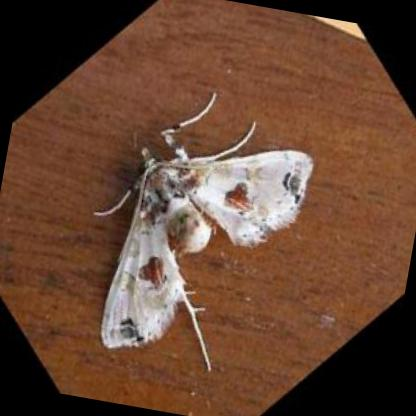leucinodes: (102, 147, 308, 350)
